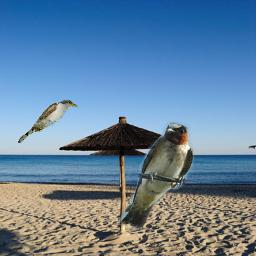Cuckoo: (17, 99, 79, 143)
Swallow: (118, 121, 194, 230)
